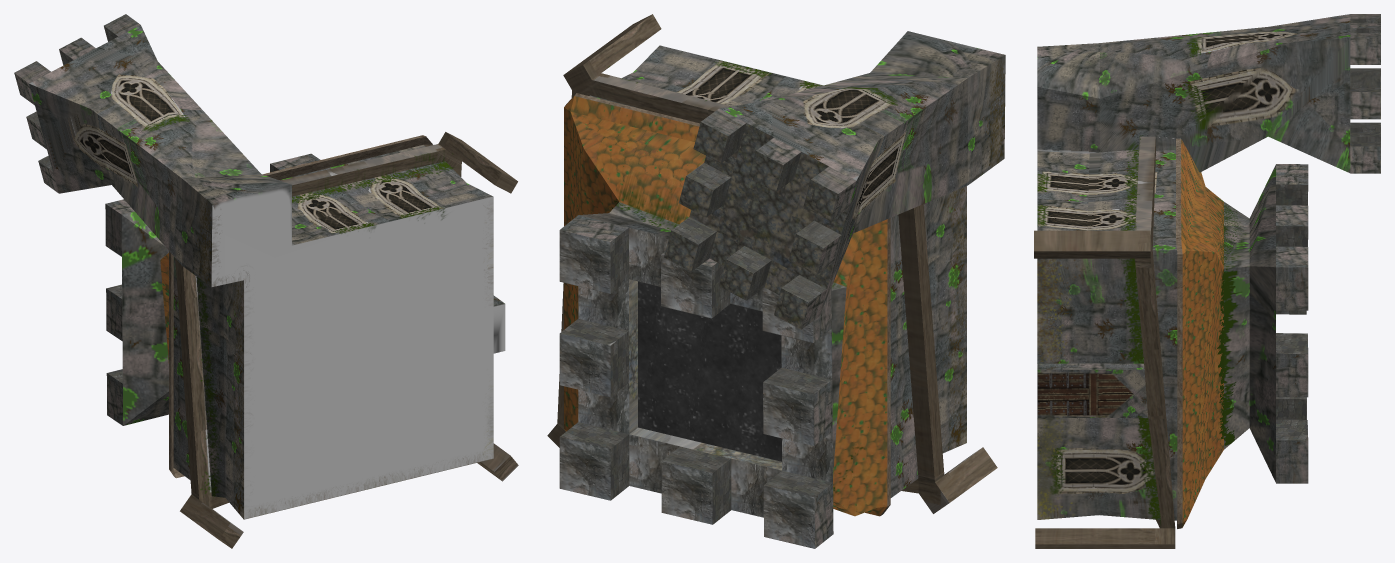
File: CUARTEL.obj
3 views of the same model, side by side, from view 1: azimuth 30°, elevation 25°; view 2: azimuth 150°, elevation 25°; view 3: azimuth 270°, elevation 25° (orthographic). The views are drawn at different scales.
Parts seen in each view (by area): view 1: Plane_Plane; view 2: Plane_Plane; view 3: Plane_Plane.
Boxes of the visible parts, x1,y1,x2,y2 form: Plane_Plane: (14, 14, 518, 548); Plane_Plane: (547, 14, 1005, 548); Plane_Plane: (1034, 14, 1380, 548).
Size of the model in its own units: 7.5 by 8.47 by 6.51.
Materials: 1 (1 with a texture image).
